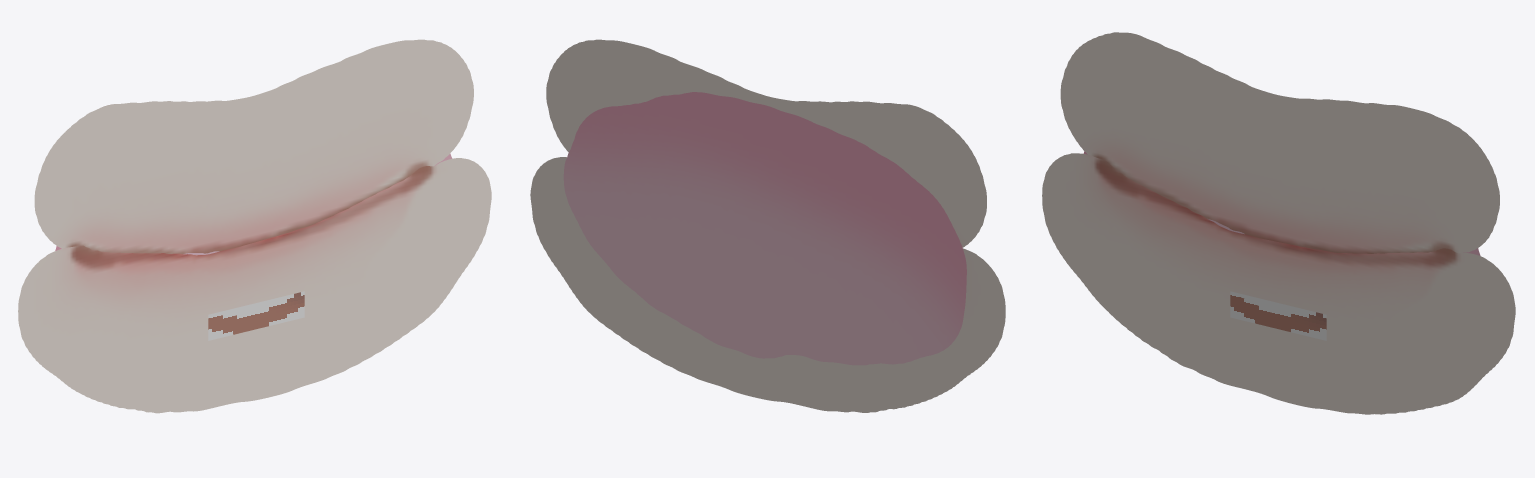
File: mouth1.dae
3 views of the same model, side by side, from view 1: azimuth 30°, elevation 25°; view 2: azimuth 150°, elevation 25°; view 3: azimuth 330°, elevation 25° (orthographic).
Visible parts, largest first — view 1: lowerLip, upperLip, lowerLipBottom; view 2: innerMouth, lowerLip, upperLip; view 3: lowerLip, upperLip, lowerLipBottom.
Boxes of the visible parts, x1,y1,x2,y2 form: lowerLip: (18, 158, 491, 413); upperLip: (34, 39, 473, 253); lowerLipBottom: (208, 291, 304, 340); innerMouth: (563, 92, 966, 365); lowerLip: (530, 157, 1005, 412); upperLip: (546, 39, 986, 247); lowerLip: (1042, 153, 1515, 414); upperLip: (1060, 32, 1499, 253); lowerLipBottom: (1230, 291, 1326, 340).
Bounding box in the file's own units: 2.7 × 0.03 × 1.79.
4 materials, 4 textured.
